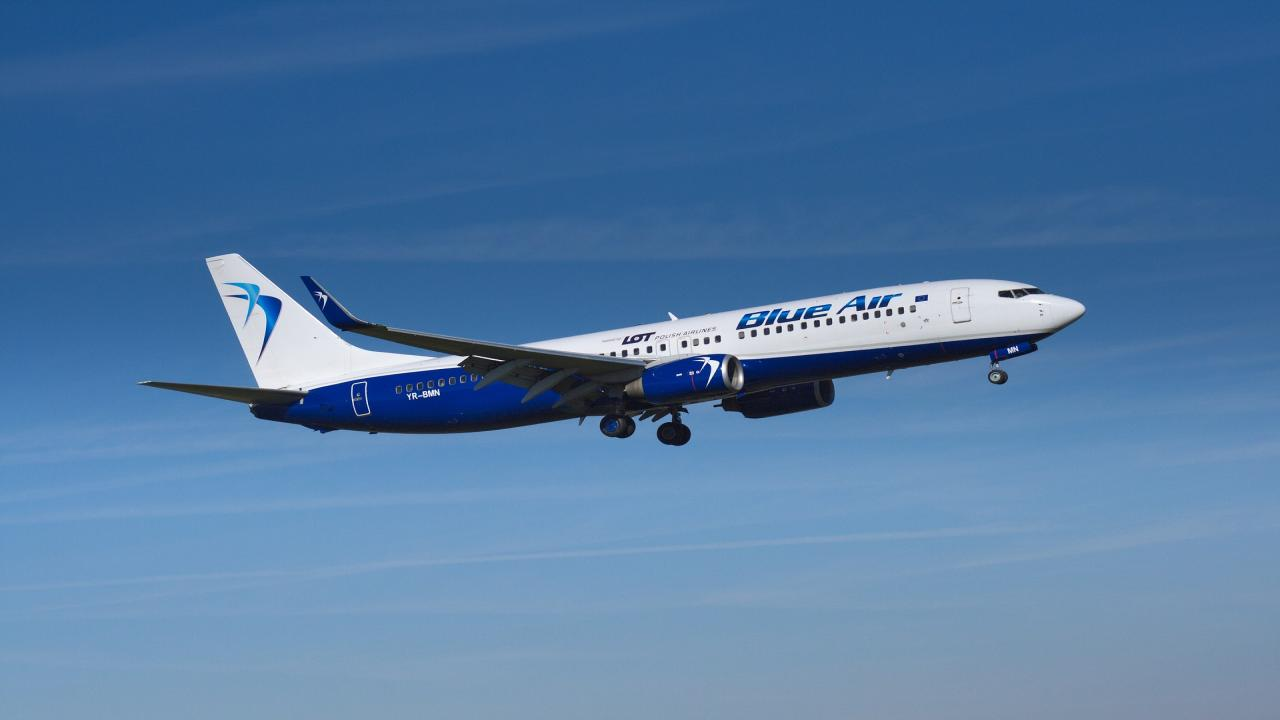Airplane: (121, 229, 1109, 457)
